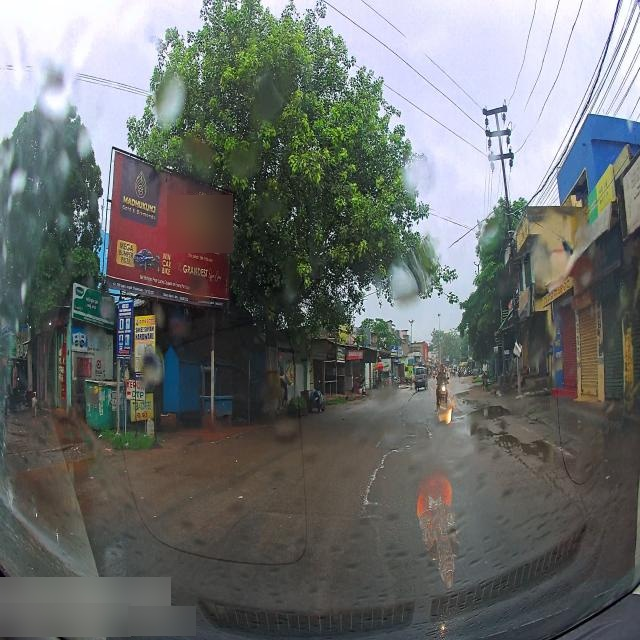pothole: (463, 410, 551, 458), (462, 398, 520, 418)
